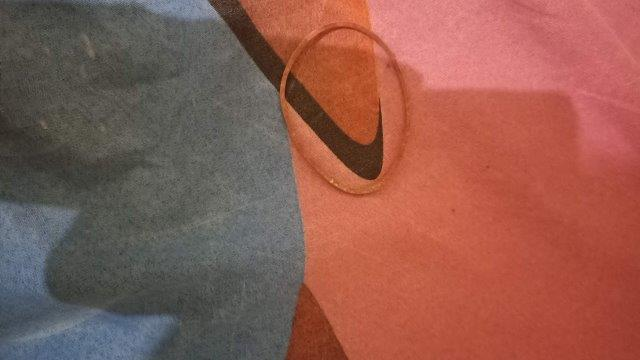karet: (280, 22, 410, 196)
